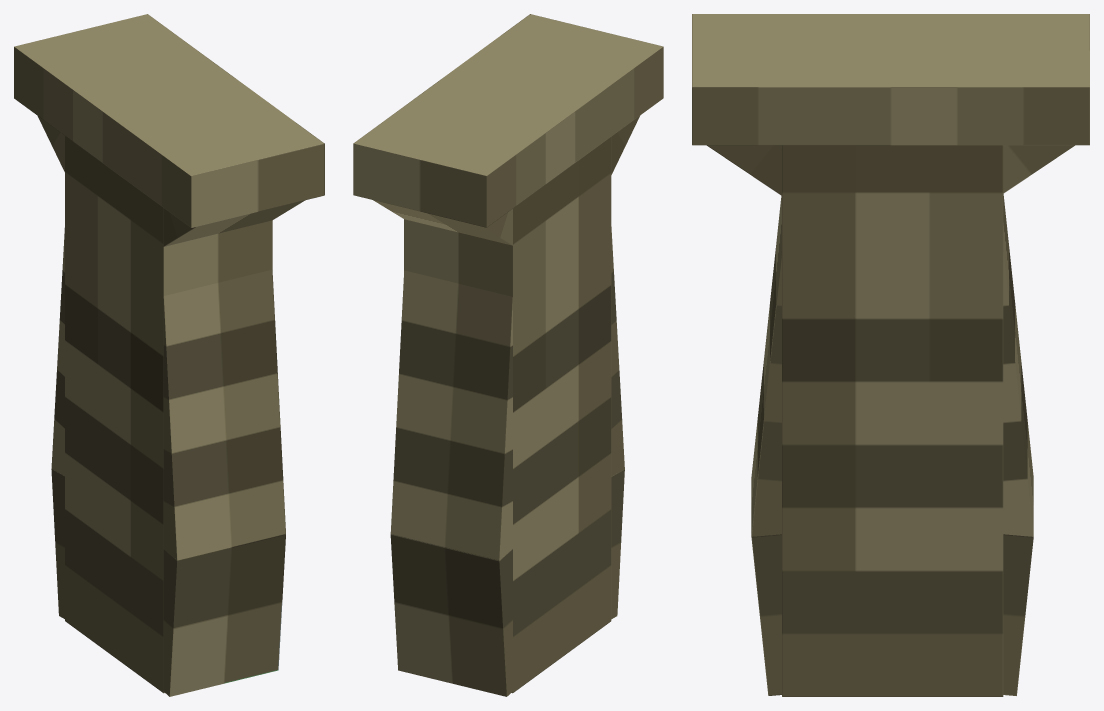
The model's file is stubbygriptan grip.obj.
3 renders of one model, left to right at view 1: azimuth 30°, elevation 25°; view 2: azimuth 150°, elevation 25°; view 3: azimuth 270°, elevation 25°, orthographic. The views are drawn at different scales.
Parts seen in each view (by area): view 1: gun_8; view 2: gun_8; view 3: gun_8.
Part boxes in pixels (box(x1,y1,x2,y2)): gun_8: box(14, 14, 324, 696); gun_8: box(353, 14, 663, 696); gun_8: box(692, 14, 1089, 696).
Size of the model in its own units: 0.1688 by 0.6626 by 0.3875.
